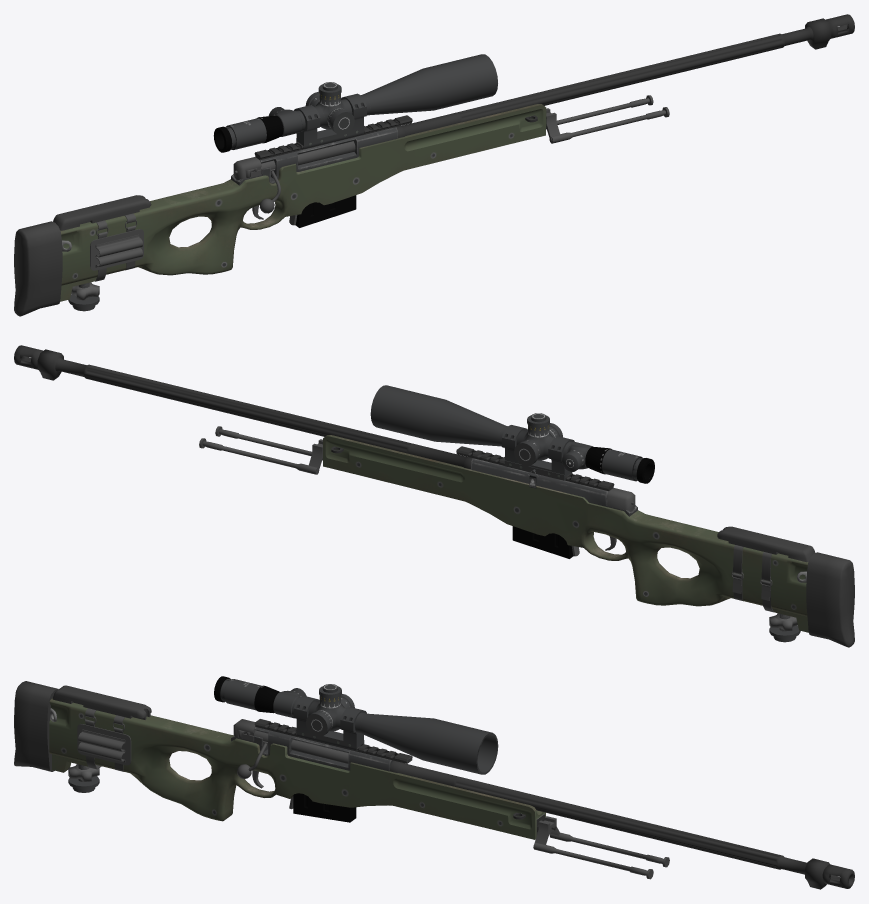
File: awm.fbx
3 views of the same model, one above another, from view 1: azimuth 30°, elevation 25°; view 2: azimuth 150°, elevation 25°; view 3: azimuth 330°, elevation 25° (orthographic).
Parts seen in each view (by area): view 1: L96A1_Body, L96A1_Scope, L96A1_BulletBage, L96A1_Bolt_Handle, L96A1_Magazine, L96A1_Tripod_Right, L96A1_Tripod_Left; view 2: L96A1_Body, L96A1_Scope, L96A1_BulletBage, L96A1_Magazine, L96A1_Tripod_Left, L96A1_Tripod_Right; view 3: L96A1_Body, L96A1_Scope, L96A1_BulletBage, L96A1_Magazine, L96A1_Bolt_Handle, L96A1_Tripod_Right, L96A1_Tripod_Left, L96A1_Tripod.
Part boxes in pixels (box(x1,y1,x2,y2)): L96A1_Body: box(14, 14, 854, 316); L96A1_Scope: box(213, 54, 497, 152); L96A1_BulletBage: box(90, 213, 143, 281); L96A1_Bolt_Handle: box(259, 141, 355, 213); L96A1_Magazine: box(295, 195, 356, 227); L96A1_Tripod_Right: box(549, 107, 669, 143); L96A1_Tripod_Left: box(546, 95, 653, 129); L96A1_Body: box(14, 345, 854, 647); L96A1_Scope: box(370, 385, 654, 488); L96A1_BulletBage: box(731, 545, 773, 612); L96A1_Magazine: box(512, 526, 573, 558); L96A1_Tripod_Left: box(199, 438, 319, 474); L96A1_Tripod_Right: box(215, 426, 322, 460); L96A1_Body: box(14, 681, 854, 889); L96A1_Scope: box(214, 676, 498, 774); L96A1_BulletBage: box(77, 708, 131, 771); L96A1_Magazine: box(293, 793, 356, 822); L96A1_Bolt_Handle: box(237, 730, 348, 778); L96A1_Tripod_Right: box(533, 842, 653, 879); L96A1_Tripod_Left: box(549, 832, 669, 867); L96A1_Tripod: box(534, 816, 560, 844).
Bounding box in the file's own units: 12651 × 2368 × 761.
